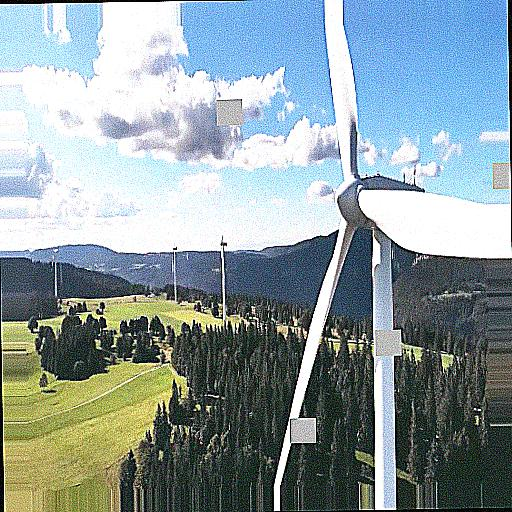wind turbine: (275, 1, 496, 499)
